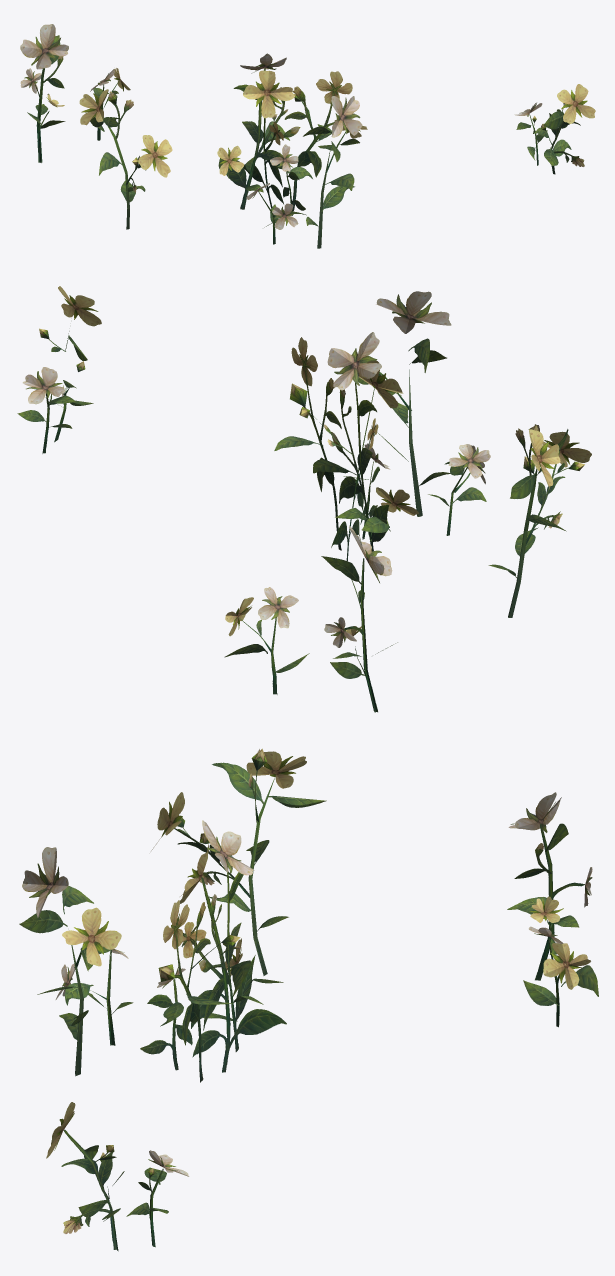
Rendered from cao2.fbx.
The picture shows the model from 3 angles, top to bottom: view 1: azimuth 30°, elevation 25°; view 2: azimuth 150°, elevation 25°; view 3: azimuth 270°, elevation 25°; orthographic projection. The views are drawn at different scales.
Visible parts, largest first — view 1: hua3; view 2: hua3; view 3: hua3.
Boxes of the visible parts, box(x1,y1,x2,y2) form: hua3: box(20, 24, 595, 248); hua3: box(17, 286, 591, 712); hua3: box(19, 748, 598, 1251).
Size of the model in its own units: 914 by 359 by 704.
Materials: 1 (1 with a texture image).
